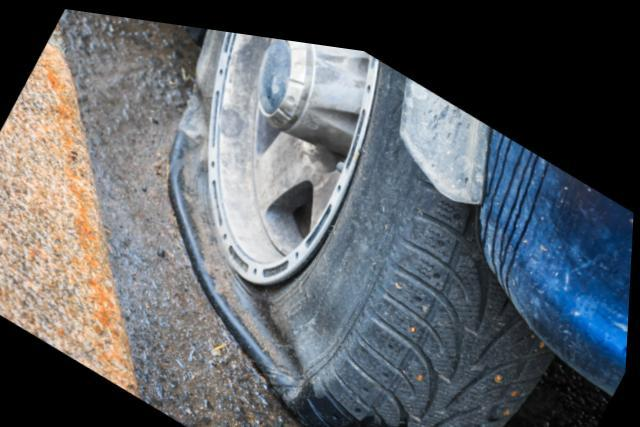tire flat: (168, 23, 558, 427)
